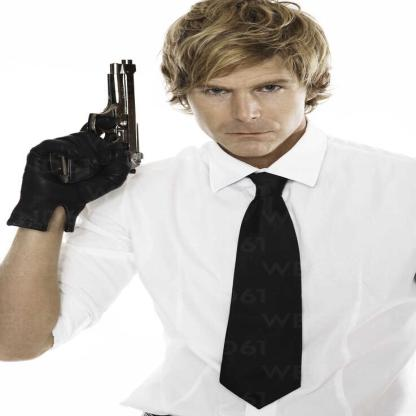handgun: (86, 57, 146, 174)
